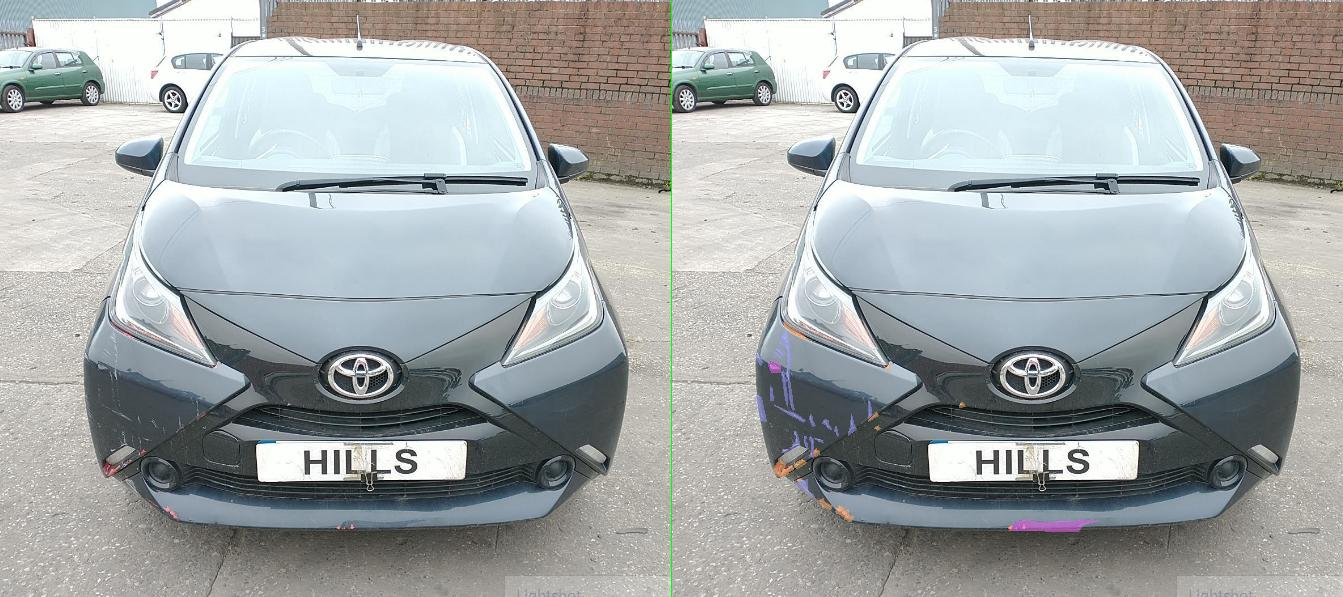Dent: (677, 520, 853, 531), (192, 360, 216, 372)
Paint chip: (224, 322, 274, 341), (202, 460, 242, 477), (328, 505, 362, 521), (292, 498, 320, 509), (673, 523, 711, 530), (244, 459, 268, 468), (392, 412, 412, 421), (278, 448, 294, 456), (574, 402, 586, 407), (404, 425, 416, 430), (250, 478, 258, 482), (428, 365, 436, 369)
Scratch: (226, 335, 244, 410), (204, 405, 266, 422), (246, 479, 286, 498), (168, 394, 188, 421), (218, 370, 230, 406), (352, 414, 368, 435), (218, 331, 232, 345), (300, 419, 318, 429), (244, 431, 256, 446), (274, 436, 282, 457), (168, 352, 180, 365), (274, 414, 286, 426), (208, 348, 226, 355), (204, 351, 220, 358), (392, 401, 398, 418), (236, 443, 250, 450), (264, 436, 272, 448), (196, 386, 202, 400), (214, 342, 228, 348), (324, 426, 332, 436), (284, 438, 302, 442), (218, 449, 234, 453)
